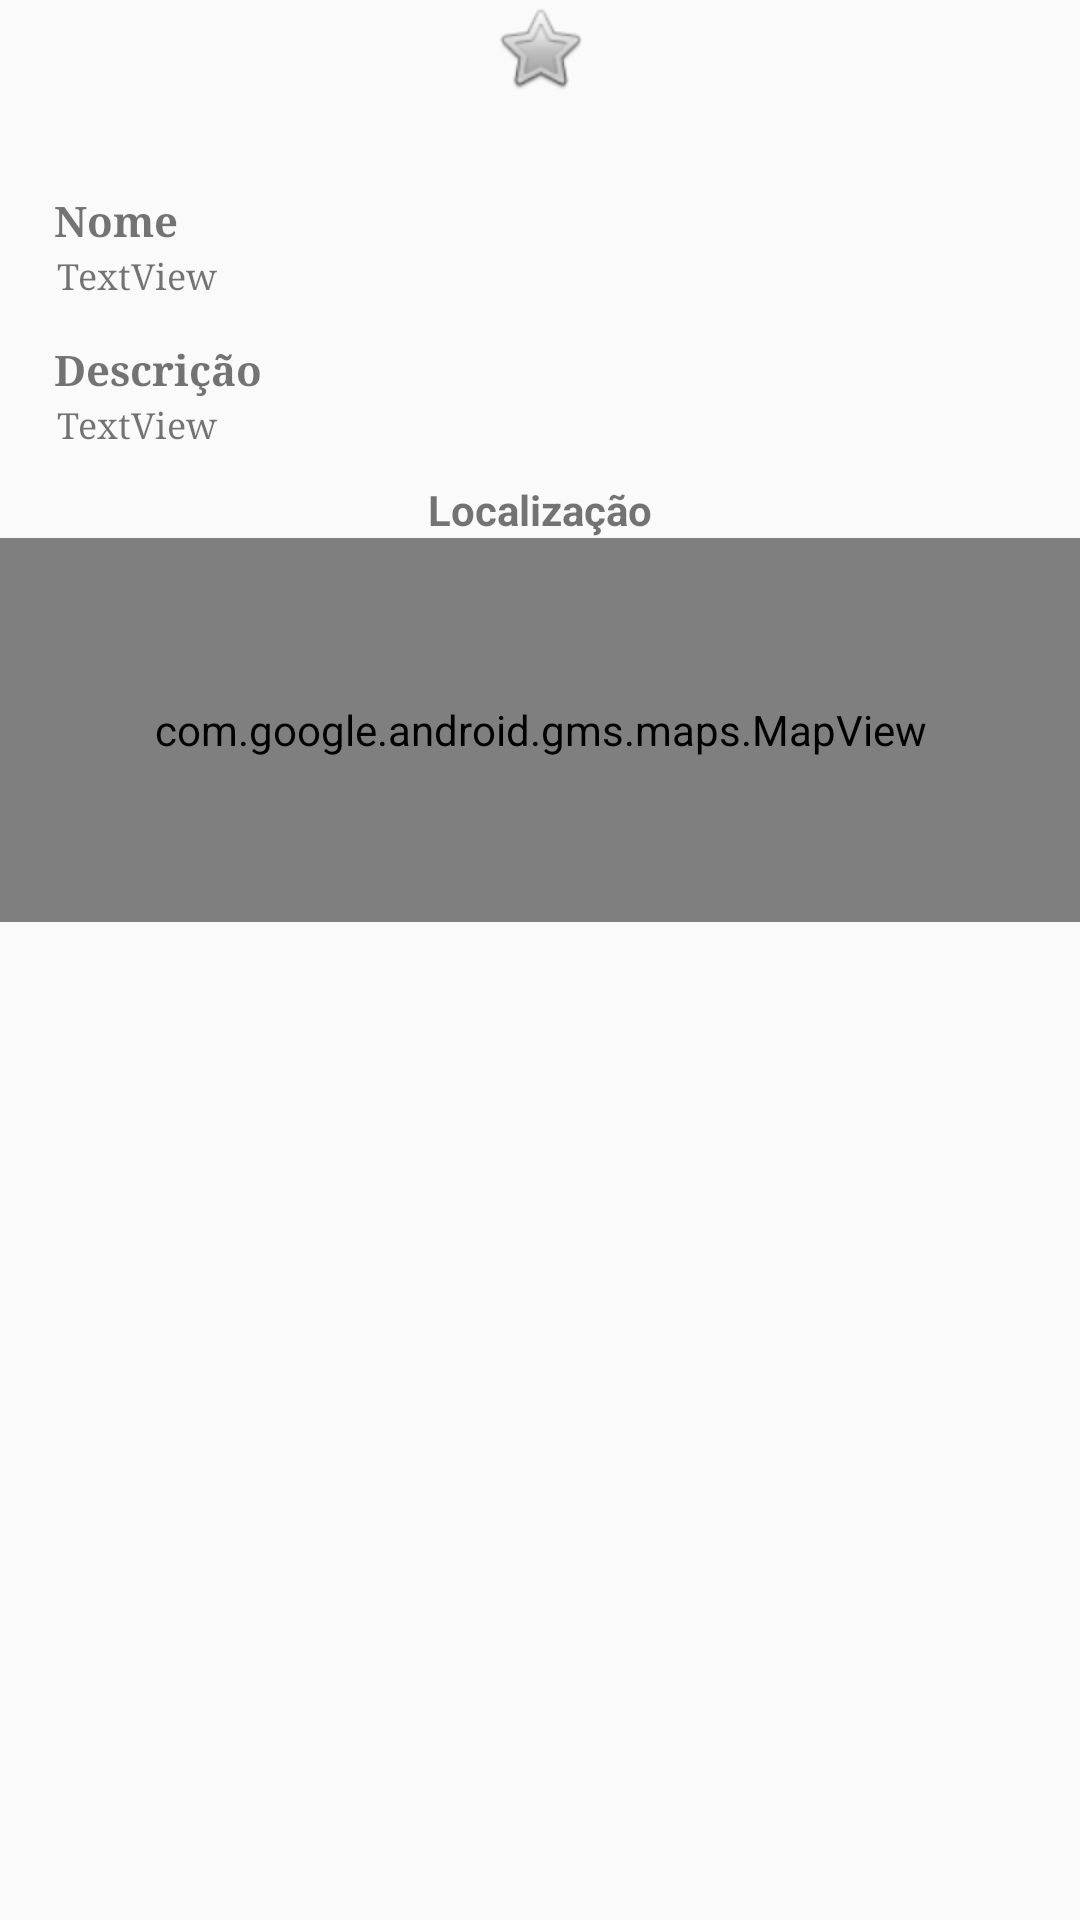

Icon bounding boxes for this 1080px x 1920px phone screenshot, format (x1, y1, x2, y2):
star: (501, 10, 581, 88)
